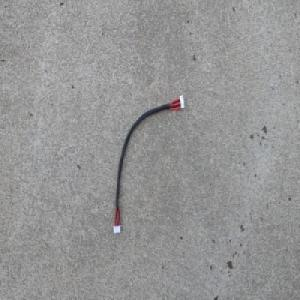Wire: (112, 93, 185, 236)
